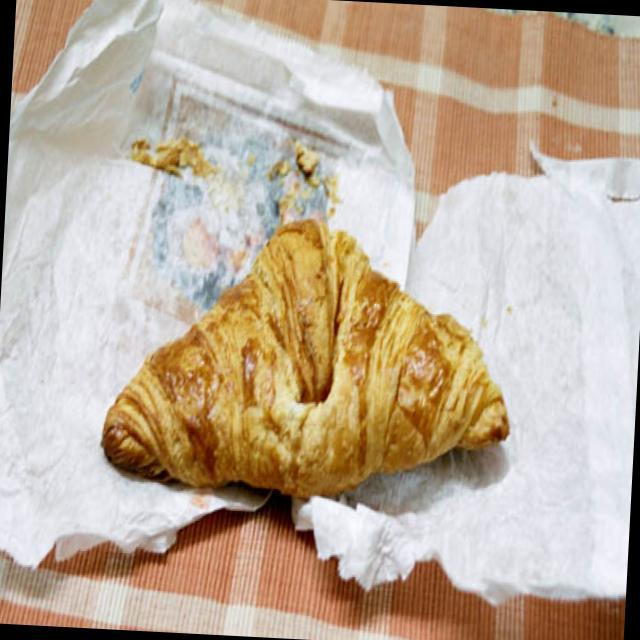Croissant: (82, 196, 528, 508)
